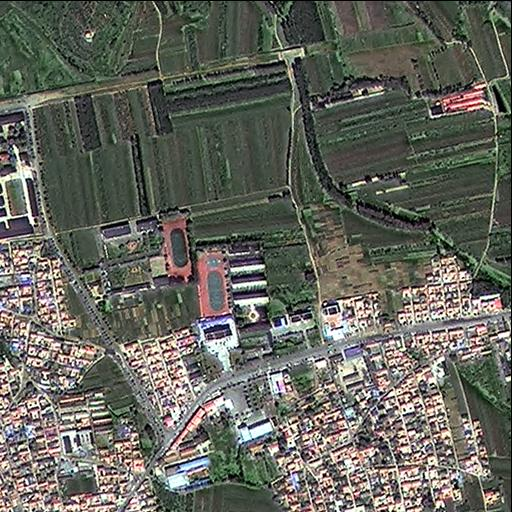school: (194, 238, 271, 369), (95, 206, 194, 295)
